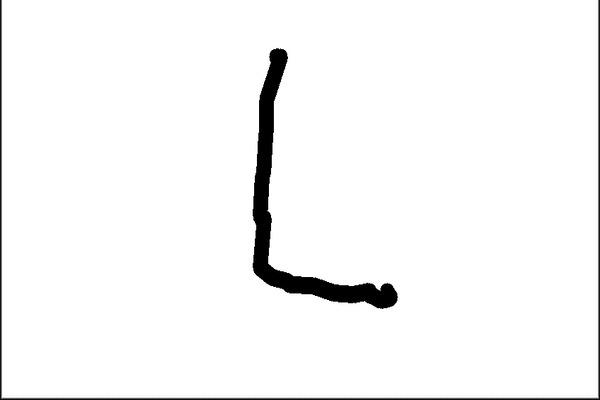L: (242, 41, 404, 318)
